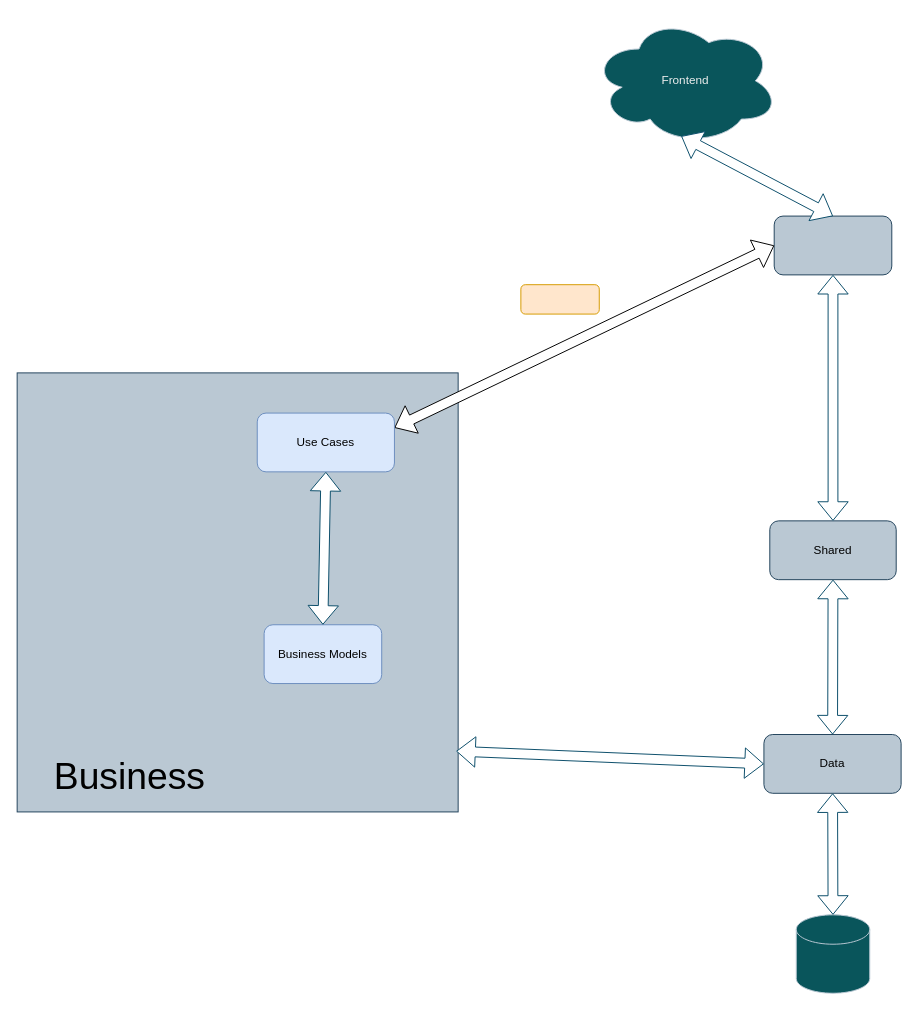
This 918x1010 diagram has some shape labels left out. Each missing label, with the centre of its shape:
"Mediator" belongs at [559,299].
"MySQL" belongs at [832,953].
"Service" belongs at [832,245].
